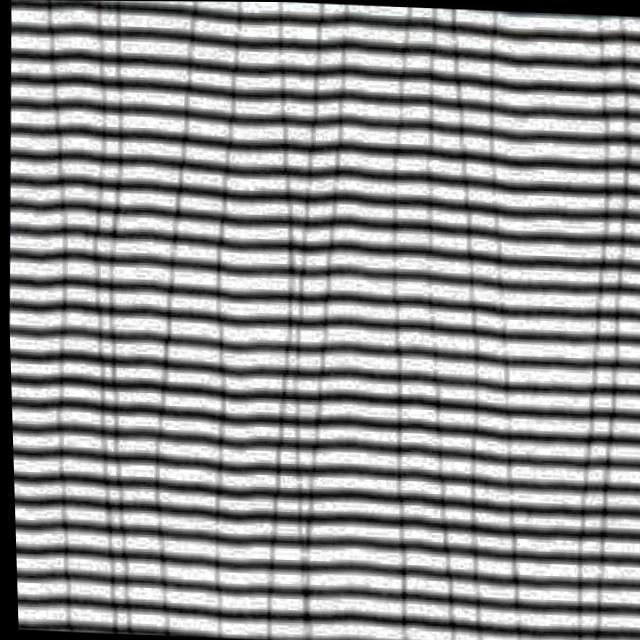Stitch: (228, 147, 379, 627)
